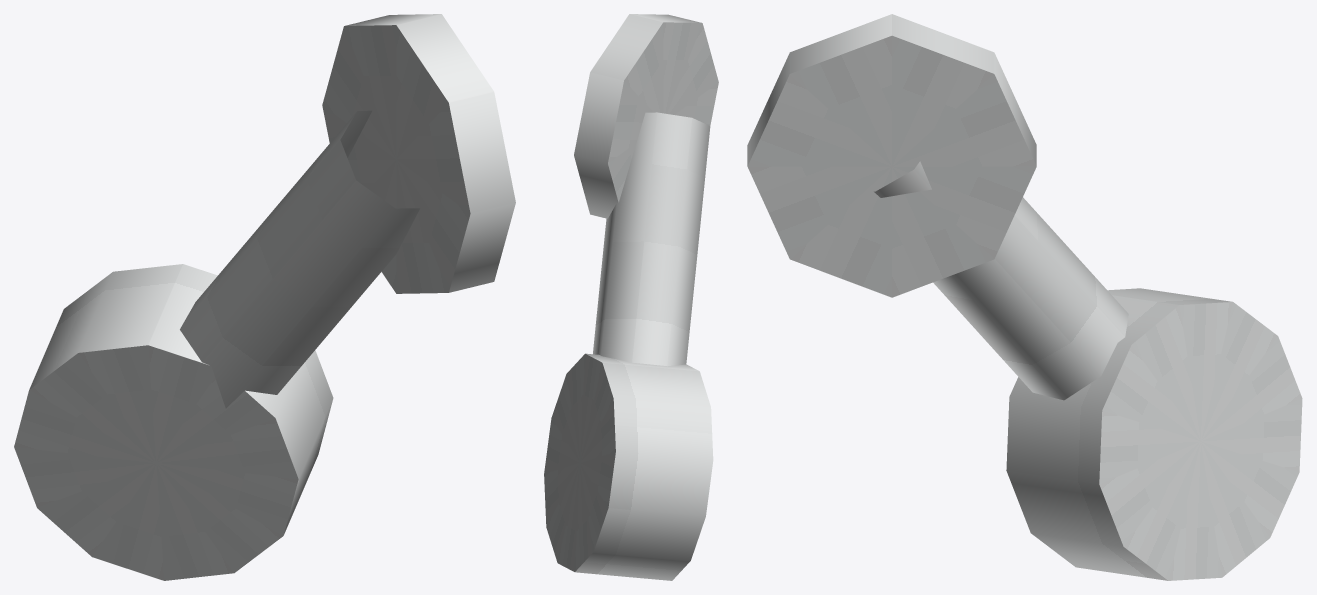
The model's file is nycsignalarm_stub_83.obj.
3 renders of one model, left to right at view 1: azimuth 30°, elevation 25°; view 2: azimuth 150°, elevation 25°; view 3: azimuth 270°, elevation 25°, orthographic. The views are drawn at different scales.
Parts seen in each view (by area): view 1: nycsignalarm_stub_83; view 2: nycsignalarm_stub_83; view 3: nycsignalarm_stub_83.
Part boxes in pixels (box(x1,y1,x2,y2)): nycsignalarm_stub_83: box(14, 14, 515, 580); nycsignalarm_stub_83: box(544, 14, 718, 580); nycsignalarm_stub_83: box(747, 14, 1302, 580).
Size of the model in its own units: 0.3693 by 0.8046 by 0.6715.
